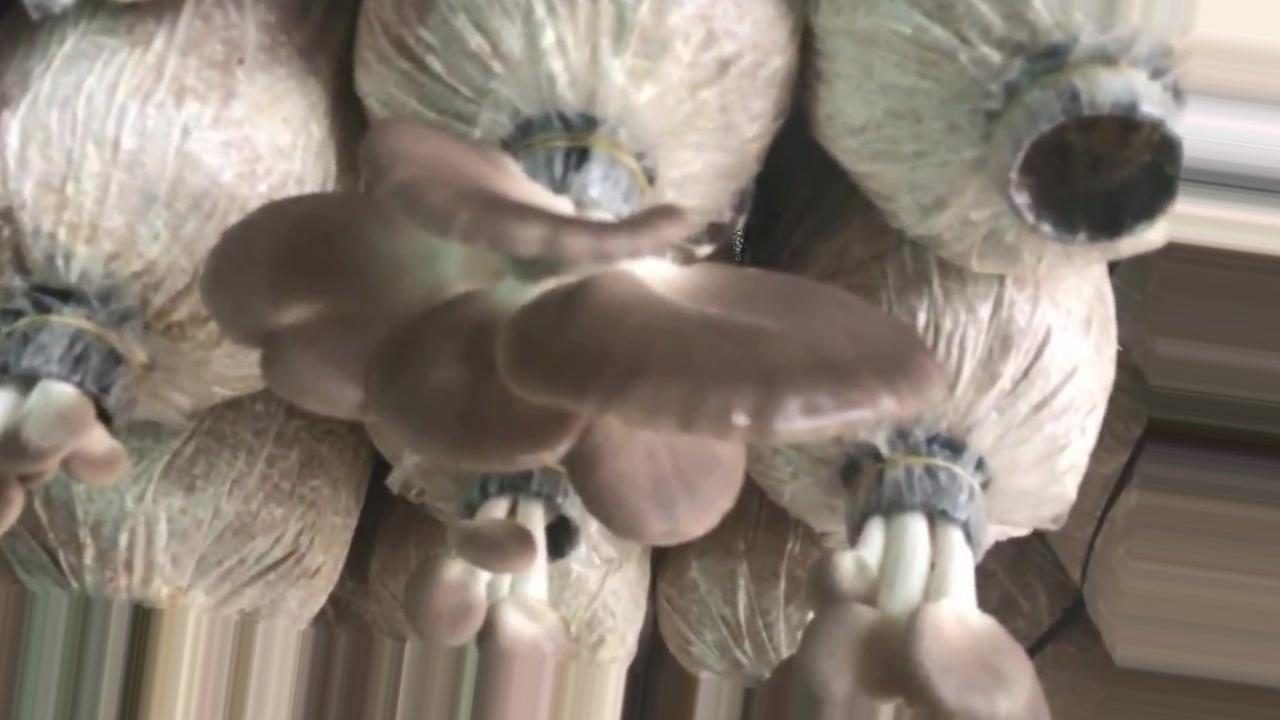nam: (202, 113, 952, 552), (758, 442, 1050, 720), (1, 296, 146, 530), (417, 463, 585, 649)
